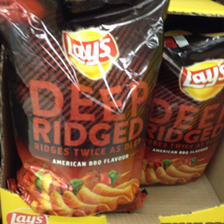chips: (4, 2, 168, 212), (144, 36, 222, 185)
